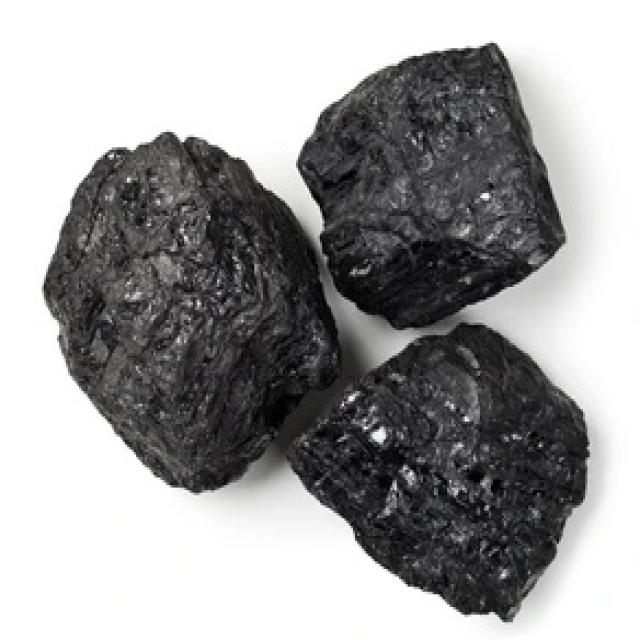Sedimentary: (30, 132, 338, 505), (292, 320, 614, 625), (292, 33, 578, 330)
